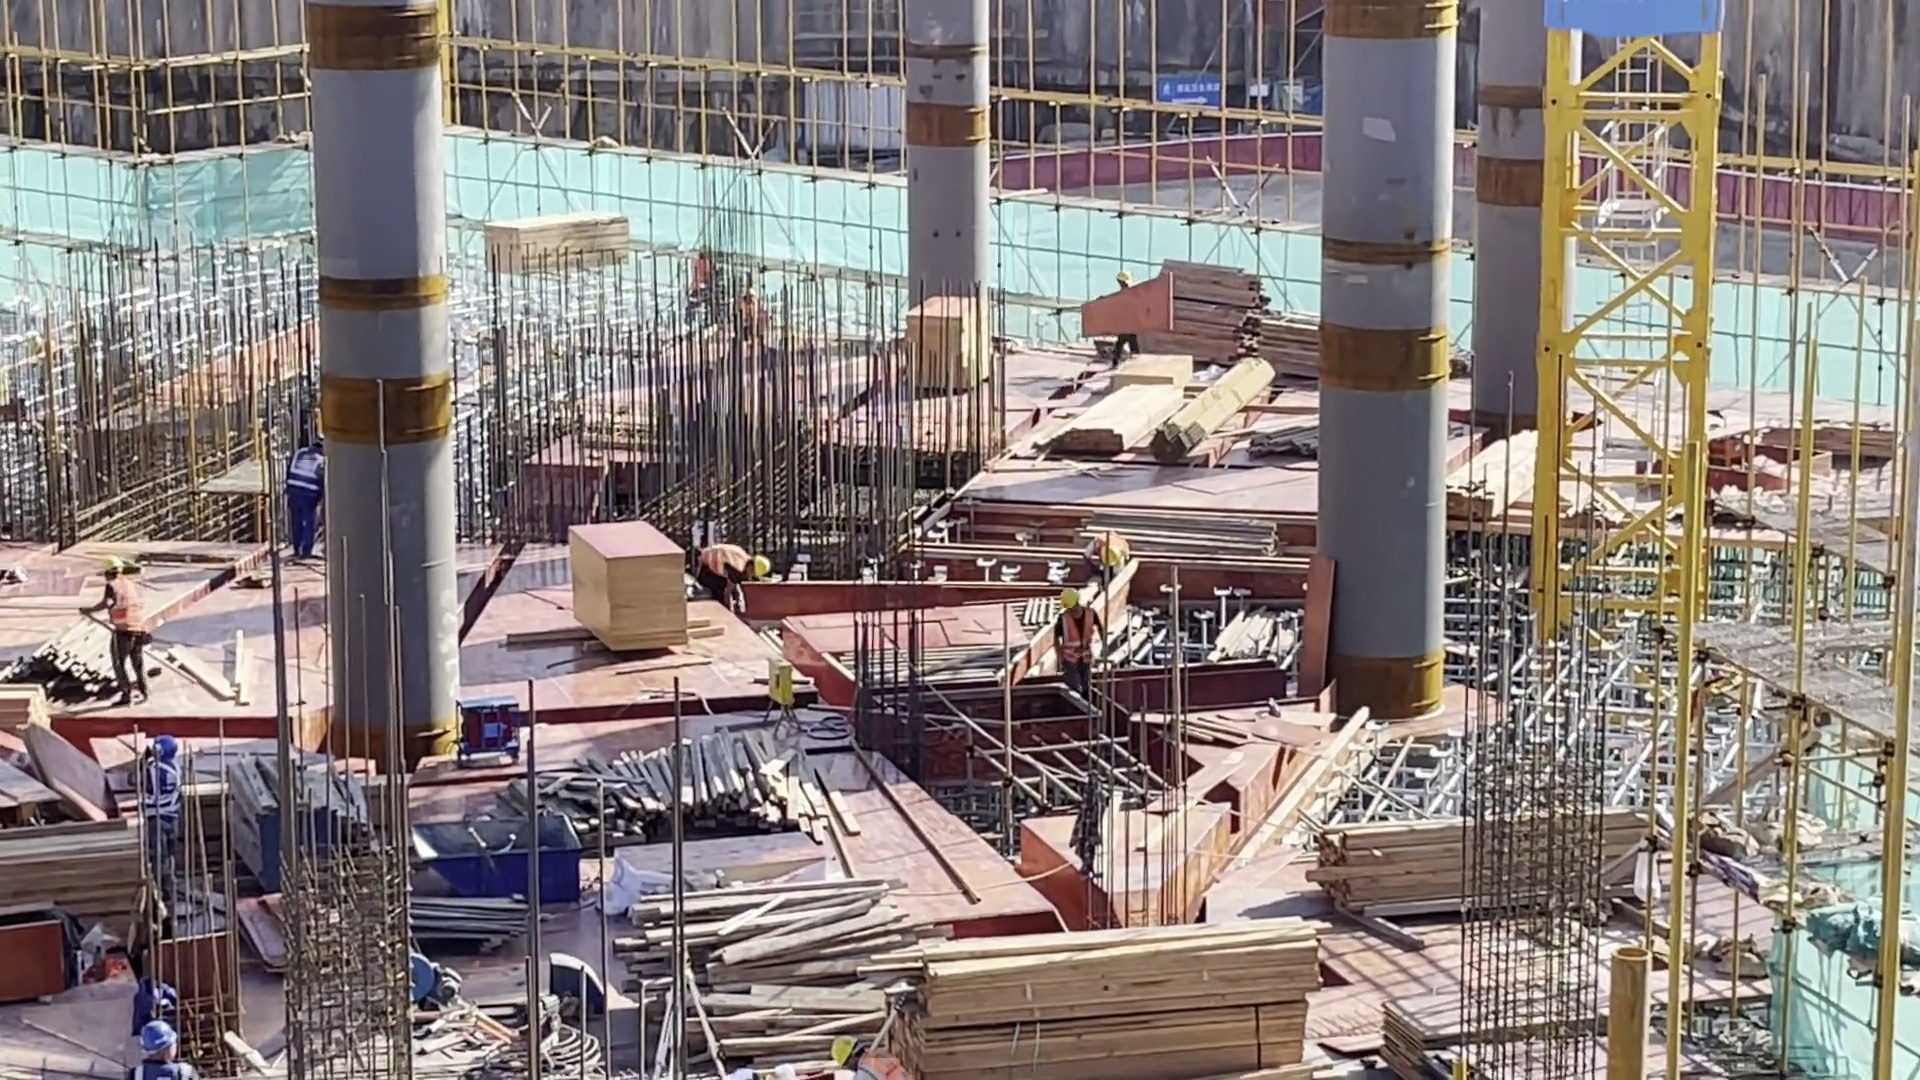board: (1376, 982, 1634, 1080), (573, 517, 698, 679), (1758, 389, 1896, 489), (904, 292, 1011, 404), (488, 209, 631, 275)
cutter: (1673, 417, 1823, 492)
fence: (1043, 116, 1333, 189), (1699, 156, 1906, 249)
helmet: (829, 1029, 867, 1066), (134, 1018, 175, 1051), (151, 733, 182, 762), (750, 555, 767, 585), (103, 555, 125, 575), (1056, 585, 1079, 603), (744, 284, 762, 303), (1098, 547, 1121, 562), (1117, 265, 1132, 282), (682, 249, 699, 263)
hopper: (423, 802, 578, 907)
person: (91, 561, 156, 695), (144, 732, 190, 870), (276, 438, 321, 557), (1051, 581, 1095, 695), (698, 540, 768, 605), (830, 1035, 902, 1080), (127, 1028, 189, 1080), (685, 242, 719, 325), (1086, 525, 1136, 573), (1115, 260, 1139, 354), (734, 286, 763, 347)
vest: (146, 759, 181, 825), (111, 577, 145, 636), (1061, 610, 1091, 664), (700, 541, 743, 577), (286, 451, 320, 495), (856, 1051, 909, 1078), (1098, 526, 1131, 556), (131, 1063, 201, 1076), (692, 259, 715, 299), (736, 303, 765, 334)
wood: (913, 931, 1278, 1039), (1323, 789, 1636, 902), (708, 902, 919, 1062), (1169, 261, 1359, 384), (13, 799, 154, 929), (1033, 364, 1201, 469), (1161, 367, 1259, 466)
